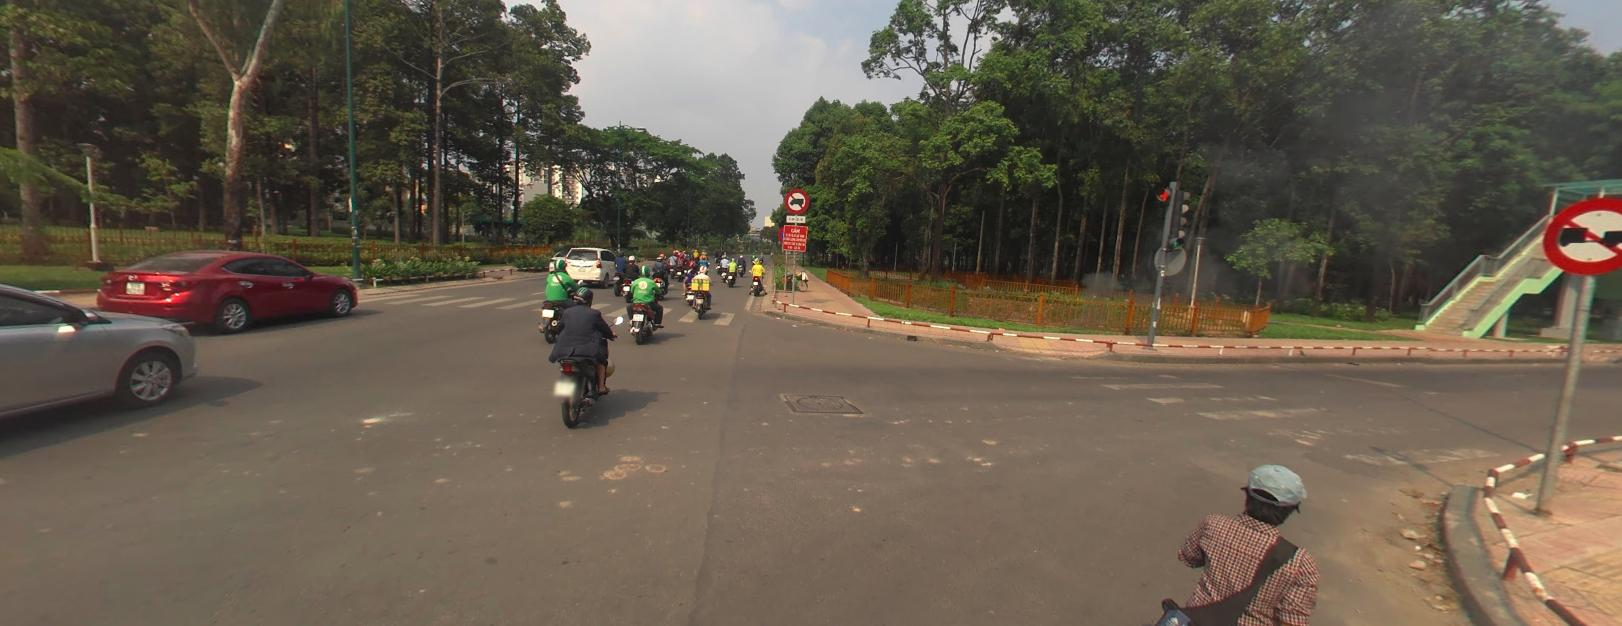Cam con lai: (1543, 193, 1621, 271), (785, 188, 808, 211)
Cam dung va do: (778, 223, 795, 241)
